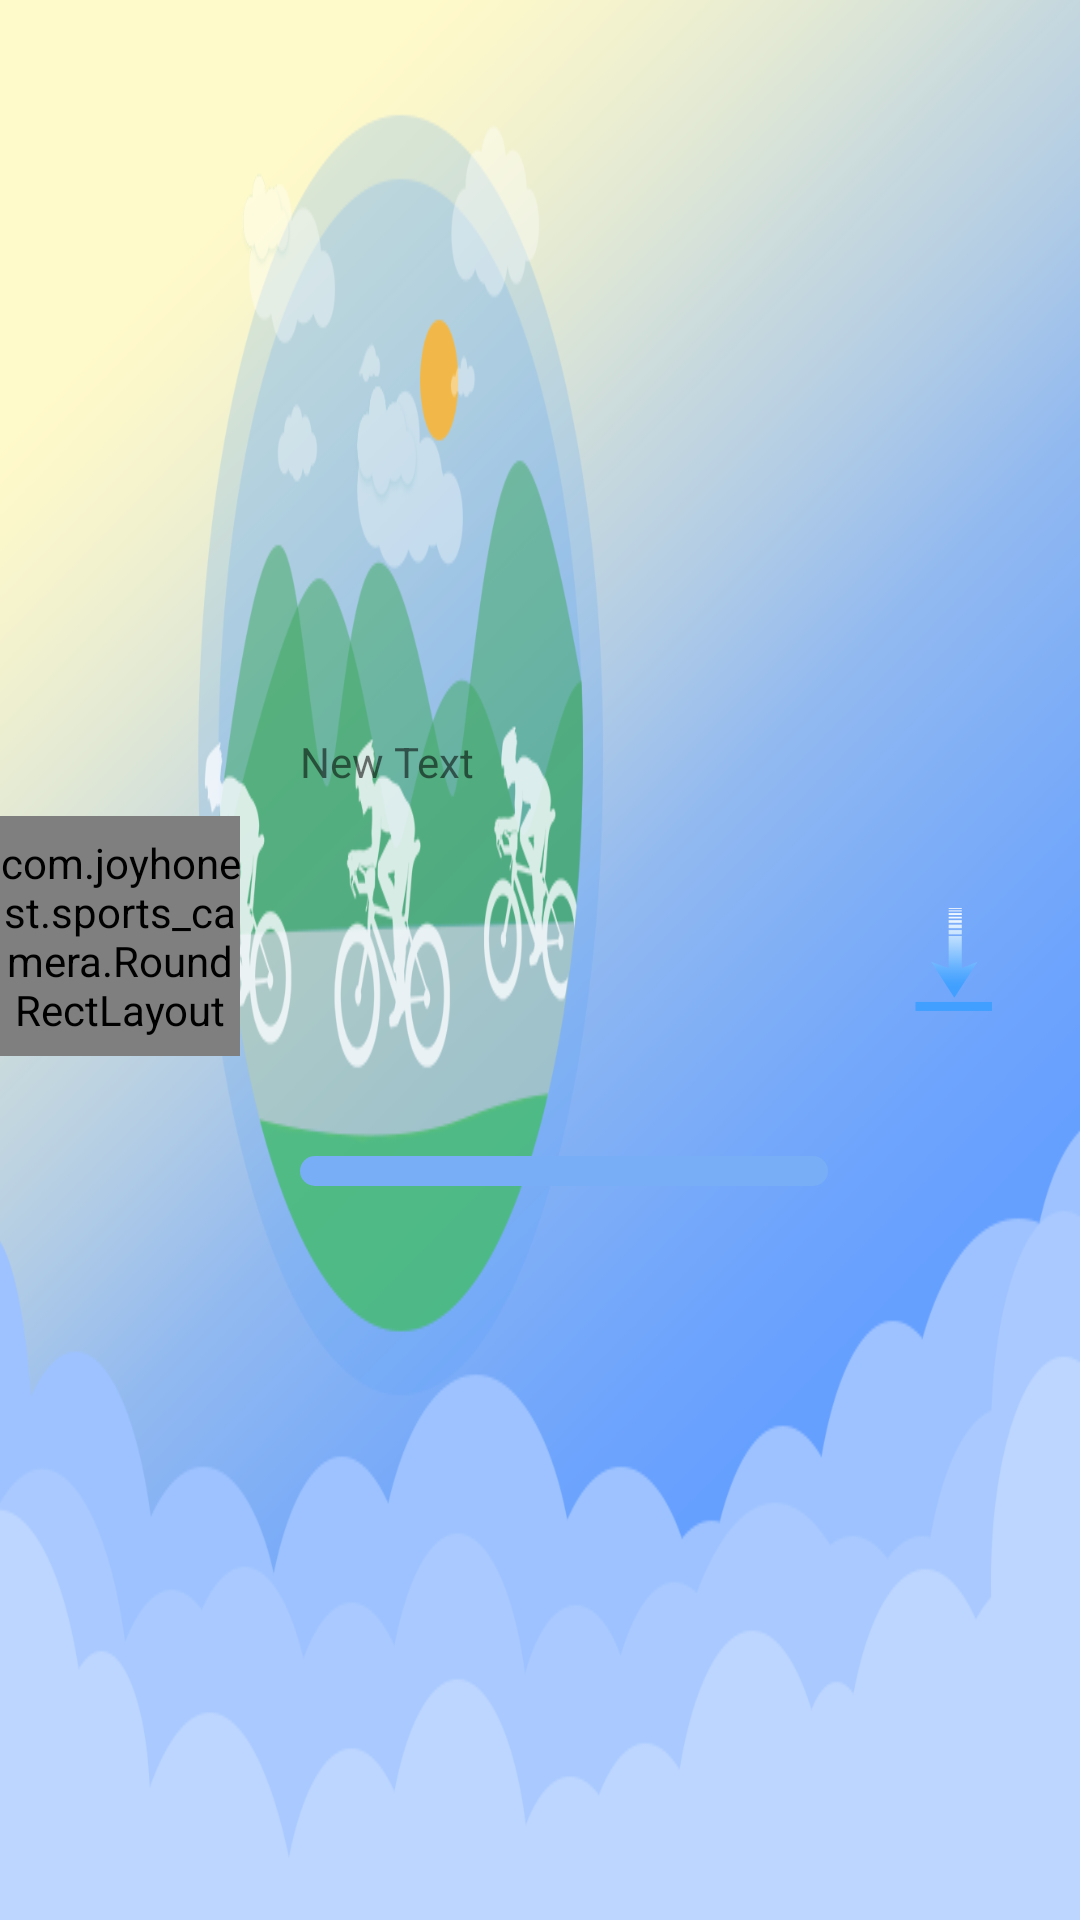

Locate icon controls on the screen. Image size 1080 × 1920, boxes as (x1, y1, x2, y2).
download: (915, 908, 992, 1011)
